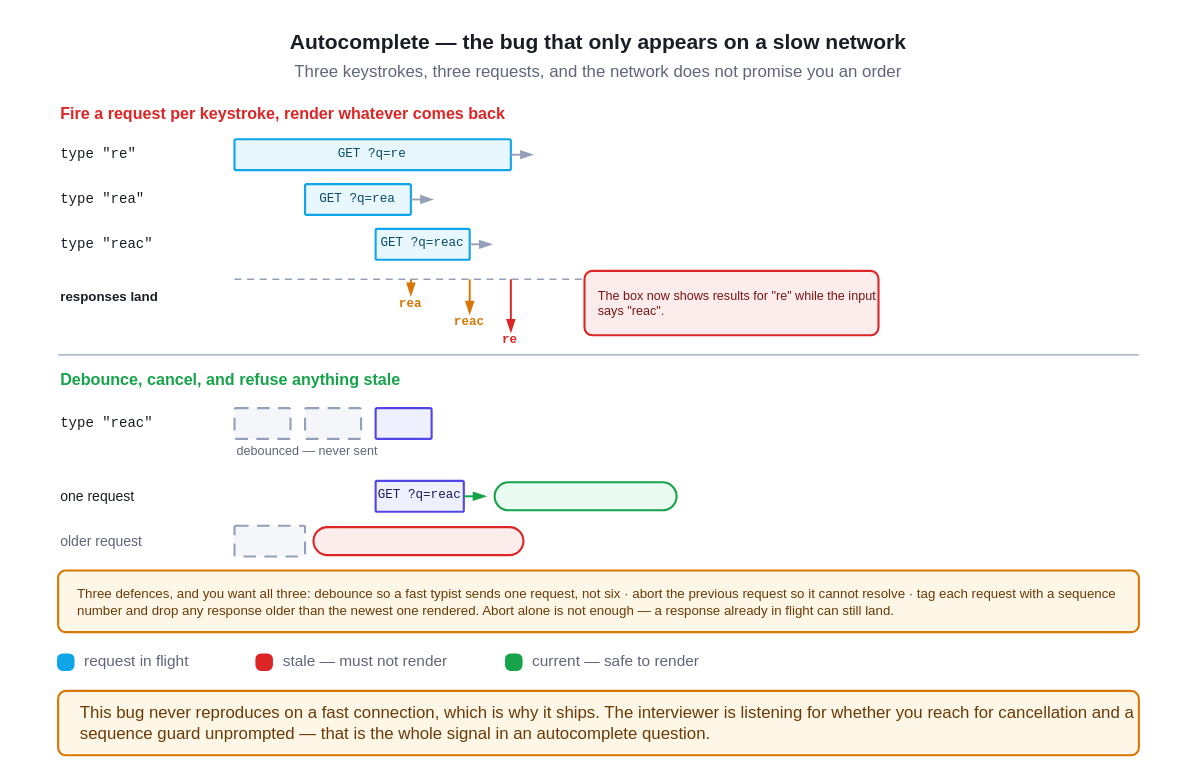
The diagram is 1196 pixels wide and 780 high, and some of its shapes have lost their labels. The centre of each missing label's shape, as x and y in pixels:
AbortController.abort(): (418,540)
in flight: (269,540)
seq matches — render: (585,496)
